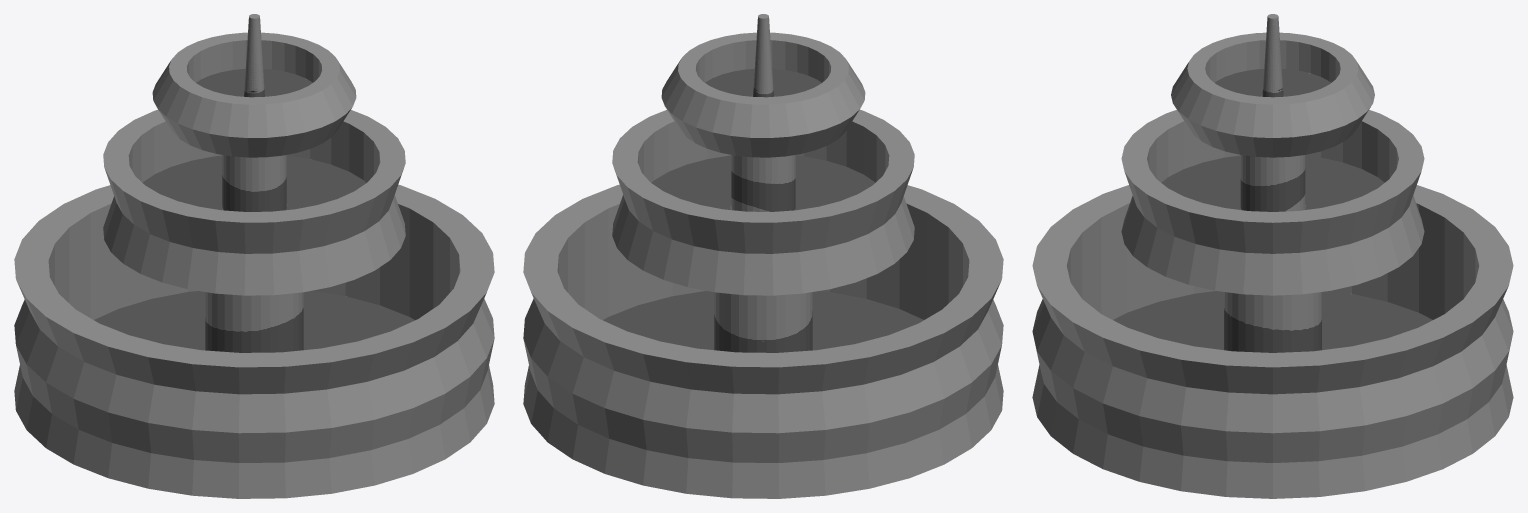
Rendered from Font.fbx.
The picture shows the model from 3 angles, left to right: view 1: azimuth 30°, elevation 25°; view 2: azimuth 150°, elevation 25°; view 3: azimuth 270°, elevation 25°; orthographic projection.
Parts seen in each view (by area): view 1: Cylinder; view 2: Cylinder; view 3: Cylinder.
Boxes of the visible parts, box(x1,y1,x2,y2) form: Cylinder: box(14, 14, 494, 498); Cylinder: box(523, 14, 1003, 498); Cylinder: box(1032, 14, 1513, 498).
Bounding box in the file's own units: 2358 × 2061 × 2358.
Materials: 1 (1 with a texture image).
